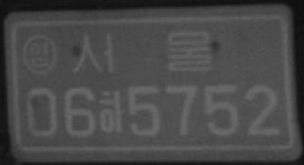0: (25, 86, 58, 136)
2: (244, 82, 281, 136)
5: (202, 82, 238, 137), (127, 84, 160, 138)
6: (63, 85, 96, 138)
7: (164, 83, 199, 135)
서울_D: (72, 29, 213, 73)
영: (22, 33, 57, 76)
하: (97, 89, 124, 134)
